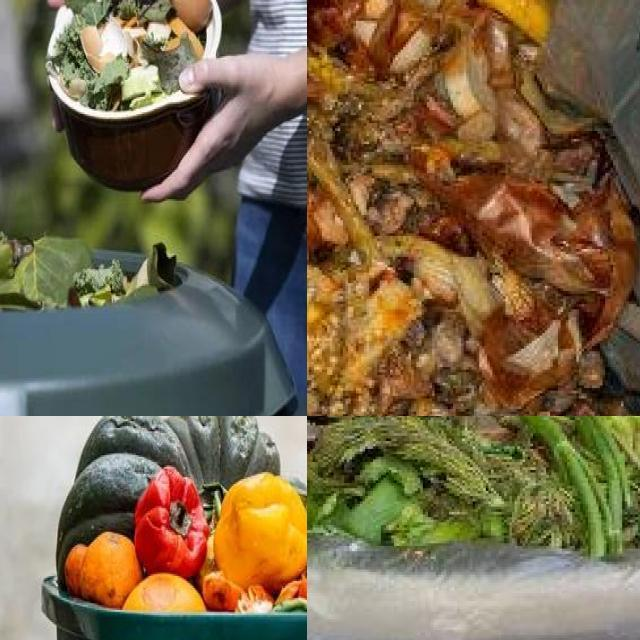Garbage: (307, 0, 640, 416), (46, 416, 307, 611), (307, 416, 640, 559), (51, 0, 216, 117), (0, 244, 188, 327)
